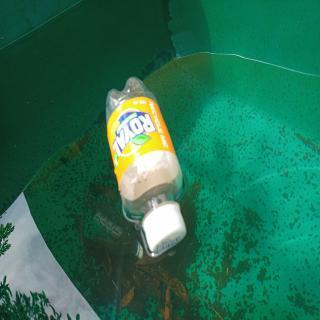bottle: (104, 72, 190, 258)
